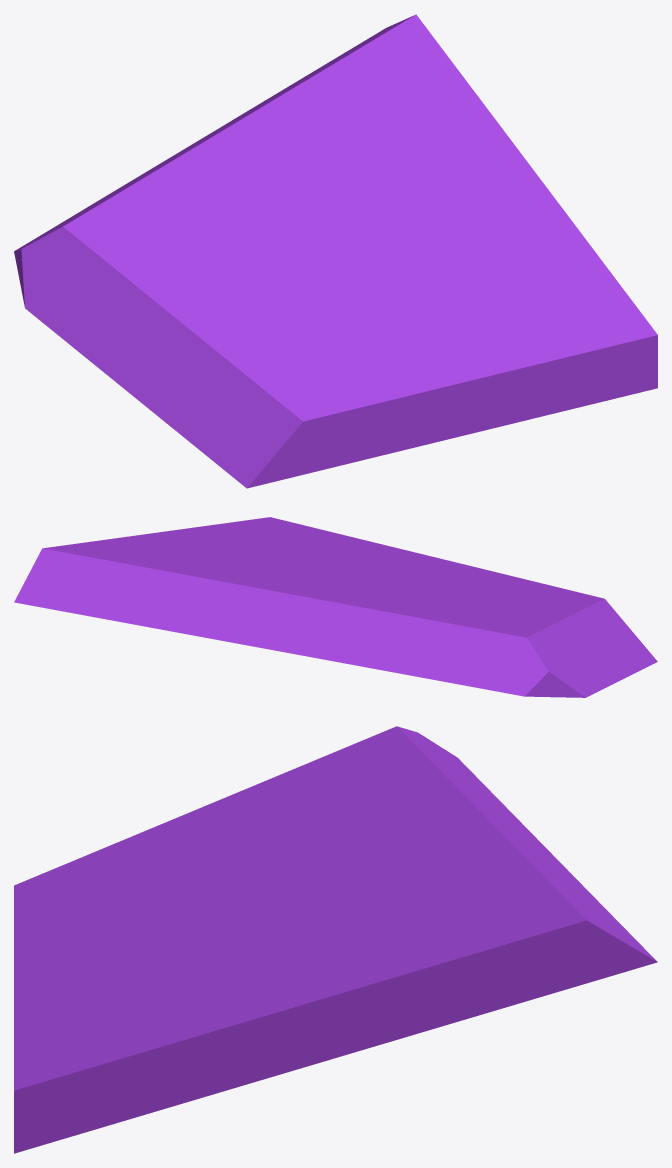
Rendered from Window_165_1_chunks.fbx.
3 views of the same model, one above another, from view 1: azimuth 30°, elevation 25°; view 2: azimuth 150°, elevation 25°; view 3: azimuth 270°, elevation 25° (orthographic). The views are drawn at different scales.
Visible parts, largest first — view 1: Window_165_1_10, Window_165_1_0, Window_165_1_2, Window_165_1_3, Window_165_1_12, Window_165_1_17, Window_165_1_16, Window_165_1_13, Window_165_1_8, Window_165_1_20, Window_165_1_14, Window_165_1_19 (+4 smaller); view 2: Window_165_1_12, Window_165_1_13, Window_165_1_0, Window_165_1_10, Window_165_1_11, Window_165_1_3, Window_165_1_2, Window_165_1_4, Window_165_1_17, Window_165_1_16, Window_165_1_8, Window_165_1_20 (+5 smaller); view 3: Window_165_1_10, Window_165_1_15, Window_165_1_16, Window_165_1_12, Window_165_1_2, Window_165_1_17, Window_165_1_3, Window_165_1_13, Window_165_1_9, Window_165_1_0, Window_165_1_8, Window_165_1_20 (+5 smaller).
Boxes of the visible parts, x1=… form: Window_165_1_10: x1=358, y1=249, x2=657, y2=438; Window_165_1_0: x1=79, y1=302, x2=333, y2=488; Window_165_1_2: x1=258, y1=261, x2=454, y2=469; Window_165_1_3: x1=28, y1=247, x2=306, y2=346; Window_165_1_12: x1=201, y1=14, x2=425, y2=173; Window_165_1_17: x1=355, y1=70, x2=510, y2=189; Window_165_1_16: x1=447, y1=140, x2=597, y2=255; Window_165_1_13: x1=28, y1=124, x2=250, y2=257; Window_165_1_8: x1=298, y1=177, x2=408, y2=303; Window_165_1_20: x1=153, y1=195, x2=314, y2=253; Window_165_1_14: x1=340, y1=152, x2=460, y2=250; Window_165_1_19: x1=256, y1=158, x2=342, y2=222; Window_165_1_12: x1=14, y1=547, x2=316, y2=649; Window_165_1_13: x1=289, y1=592, x2=547, y2=670; Window_165_1_0: x1=503, y1=591, x2=657, y2=685; Window_165_1_10: x1=214, y1=517, x2=460, y2=579; Window_165_1_11: x1=269, y1=632, x2=499, y2=677; Window_165_1_3: x1=407, y1=587, x2=600, y2=696; Window_165_1_2: x1=410, y1=563, x2=575, y2=601; Window_165_1_4: x1=456, y1=657, x2=586, y2=697; Window_165_1_17: x1=118, y1=536, x2=246, y2=570; Window_165_1_16: x1=131, y1=525, x2=296, y2=553; Window_165_1_8: x1=288, y1=565, x2=427, y2=588; Window_165_1_20: x1=358, y1=583, x2=493, y2=619; Window_165_1_10: x1=14, y1=908, x2=235, y2=1153; Window_165_1_15: x1=358, y1=915, x2=627, y2=1051; Window_165_1_16: x1=156, y1=953, x2=366, y2=1059; Window_165_1_12: x1=374, y1=820, x2=657, y2=970; Window_165_1_2: x1=14, y1=850, x2=253, y2=973; Window_165_1_17: x1=311, y1=895, x2=507, y2=989; Window_165_1_3: x1=196, y1=743, x2=355, y2=874; Window_165_1_13: x1=353, y1=726, x2=528, y2=840; Window_165_1_9: x1=102, y1=1053, x2=329, y2=1127; Window_165_1_0: x1=14, y1=788, x2=248, y2=902; Window_165_1_8: x1=172, y1=869, x2=367, y2=934; Window_165_1_20: x1=269, y1=782, x2=375, y2=876.
Size of the model in its own units: 954 by 371 by 928.
